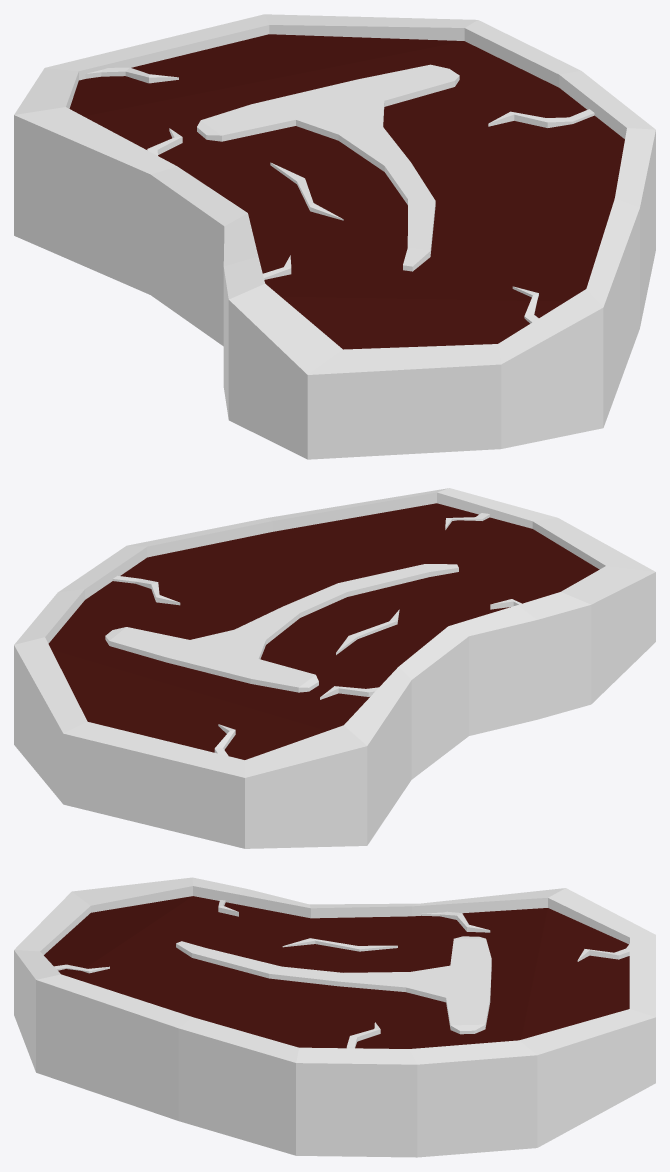
The model's file is Steak.glb.
3 renders of one model, top to bottom at view 1: azimuth 30°, elevation 25°; view 2: azimuth 150°, elevation 25°; view 3: azimuth 270°, elevation 25°, orthographic. The views are drawn at different scales.
Parts seen in each view (by area): view 1: Steak; view 2: Steak; view 3: Steak.
Part boxes in pixels (x1,y1,x2,y2): Steak: [14, 14, 655, 459]; Steak: [14, 488, 655, 848]; Steak: [14, 877, 655, 1157].
Size of the model in its own units: 132 by 33.97 by 191.
